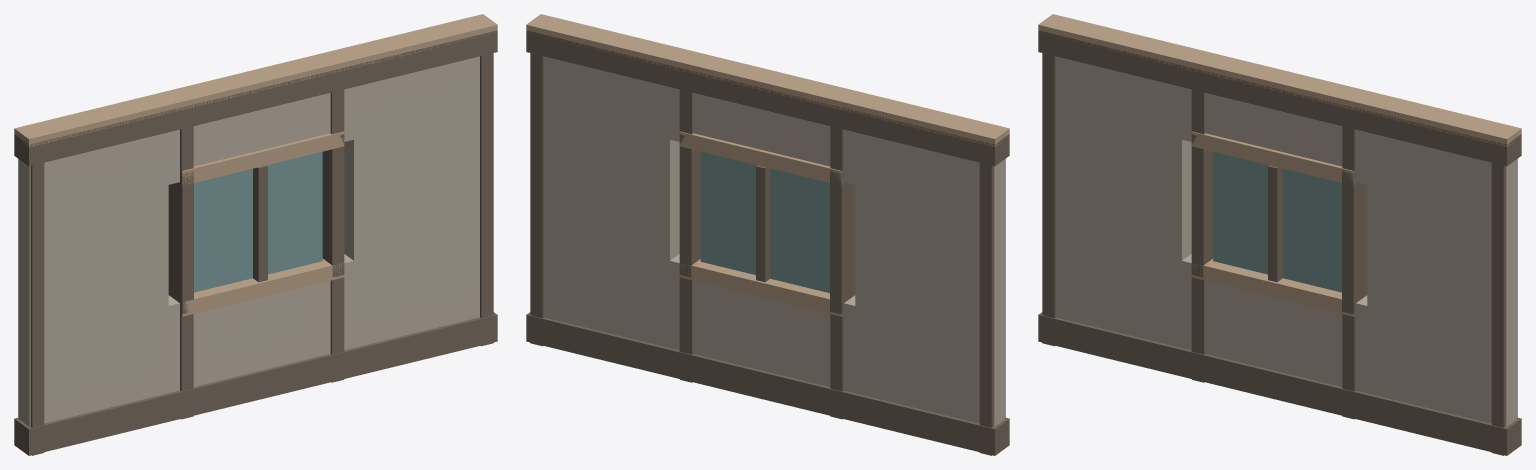
File: wall_window_4m.glb
3 views of the same model, side by side, from view 1: azimuth 30°, elevation 25°; view 2: azimuth 150°, elevation 25°; view 3: azimuth 330°, elevation 25° (orthographic).
Visible parts, largest first — view 1: plaster, wood_dark, wood_light, glass; view 2: plaster, wood_dark, wood_light, glass; view 3: plaster, wood_dark, wood_light, glass.
Part boxes in pixels (x1,y1,x2,y2): plaster: (19, 56, 479, 426); wood_dark: (14, 30, 497, 455); wood_light: (14, 14, 497, 316); glass: (194, 151, 322, 292); plaster: (544, 56, 1004, 426); wood_dark: (526, 30, 1009, 455); wood_light: (526, 14, 1009, 316); glass: (700, 151, 829, 293); plaster: (1056, 56, 1516, 426); wood_dark: (1038, 30, 1521, 455); wood_light: (1038, 14, 1521, 316); glass: (1213, 151, 1341, 292).
Size of the model in its own units: 4.05 by 2.62 by 0.22.
